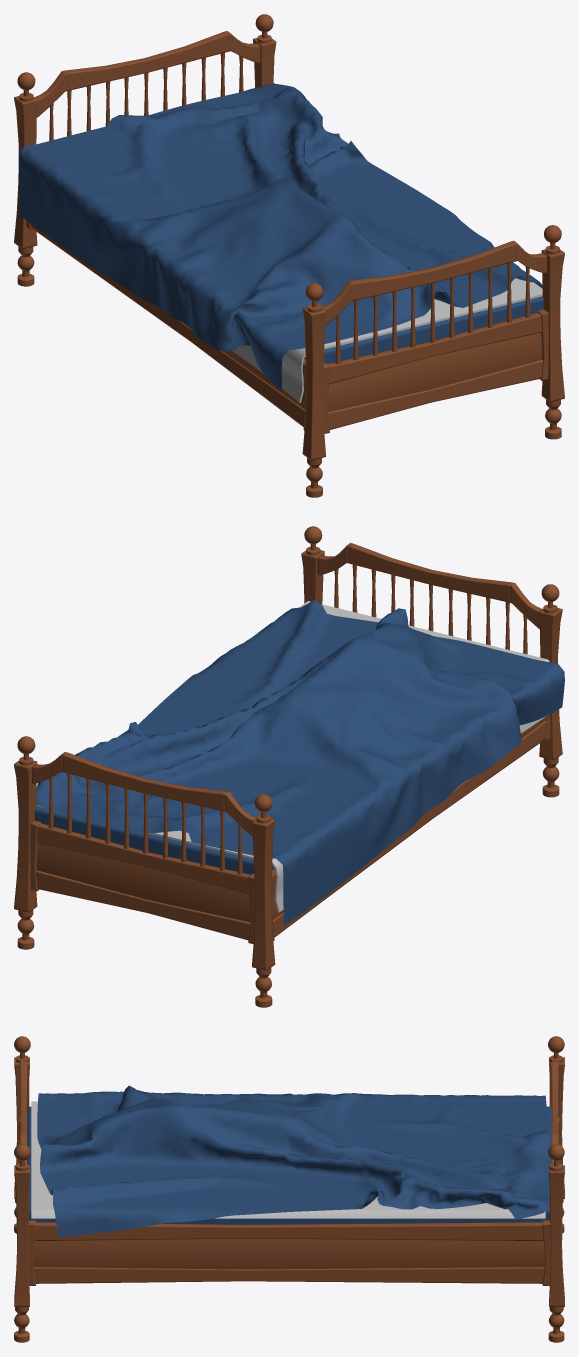
The model's file is bed.fbx.
3 renders of one model, top to bottom at view 1: azimuth 30°, elevation 25°; view 2: azimuth 150°, elevation 25°; view 3: azimuth 270°, elevation 25°, orthographic. The views are drawn at different scales.
Parts seen in each view (by area): view 1: polySurface19; view 2: polySurface19; view 3: polySurface19.
Part boxes in pixels (x1=…): polySurface19: x1=14, y1=14, x2=564, y2=497; polySurface19: x1=14, y1=526, x2=564, y2=1007; polySurface19: x1=14, y1=1036, x2=564, y2=1342.
Bounding box in the file's own units: 2.43 × 1.7 × 4.36.
